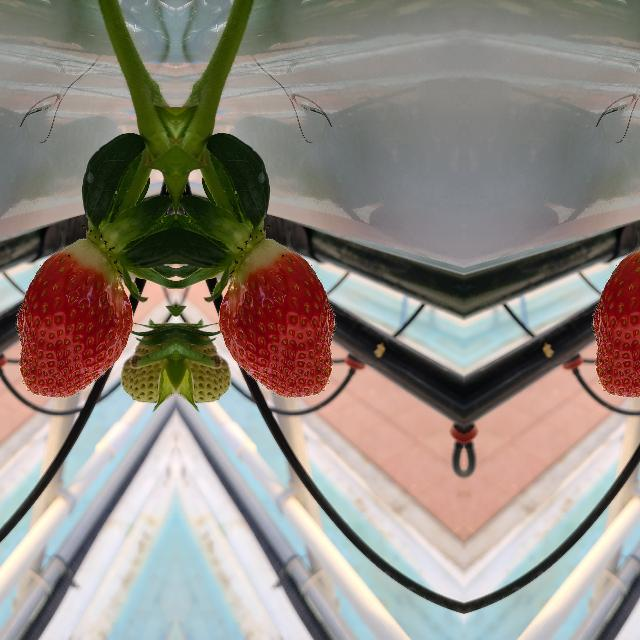Health_100: (216, 238, 336, 400), (14, 238, 134, 400), (590, 238, 640, 399)
Health_25: (176, 311, 230, 413), (120, 311, 174, 413)
